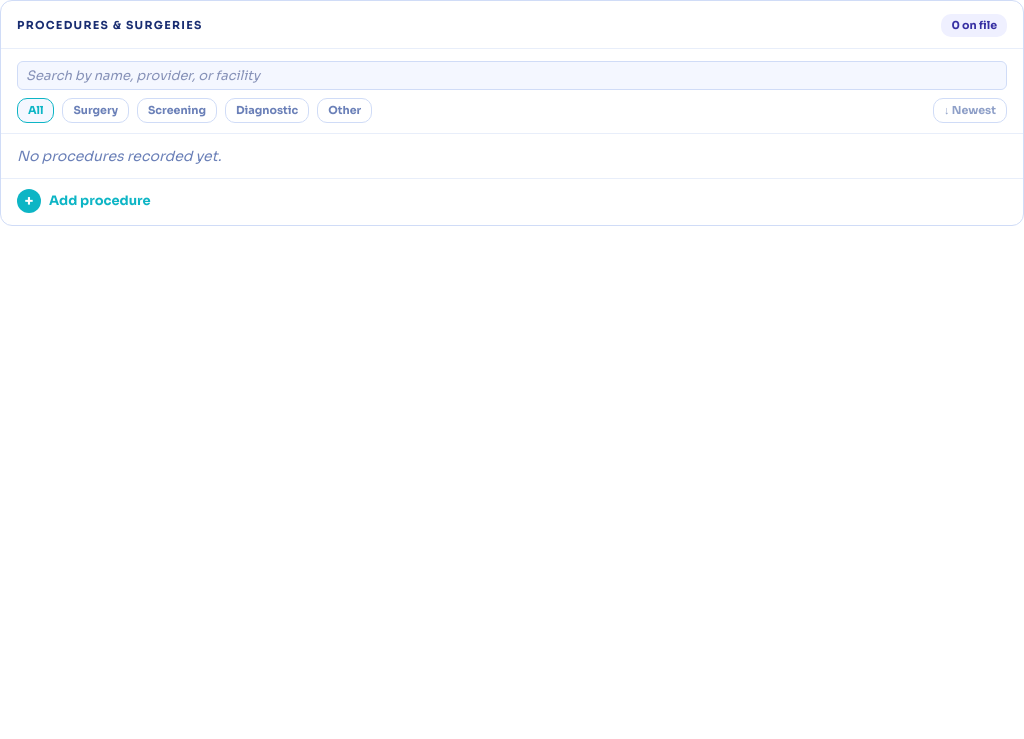
Test case: ProcedureList — add form › saving a new procedure adds it to the store and closes the form
Click the button "+ Add procedure" at (100, 200), box x1=1 y1=178 x2=1023 y2=224
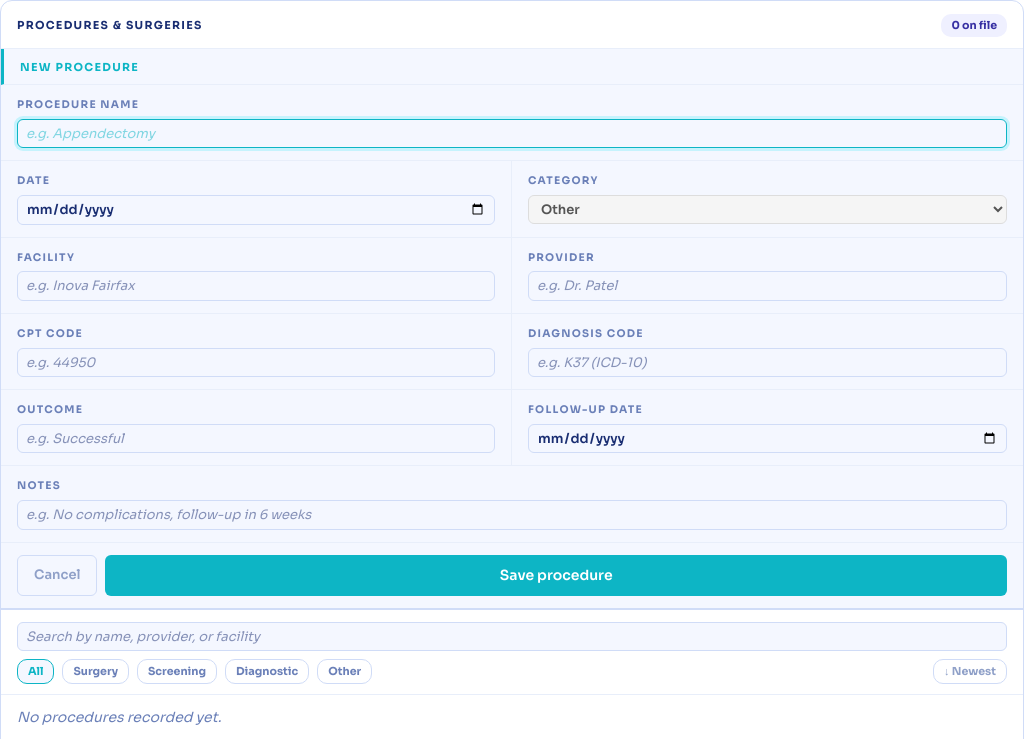
Type "Appendectomy" into the field labelled "Procedure Name" at (512, 134), box x1=17 y1=119 x2=1007 y2=148
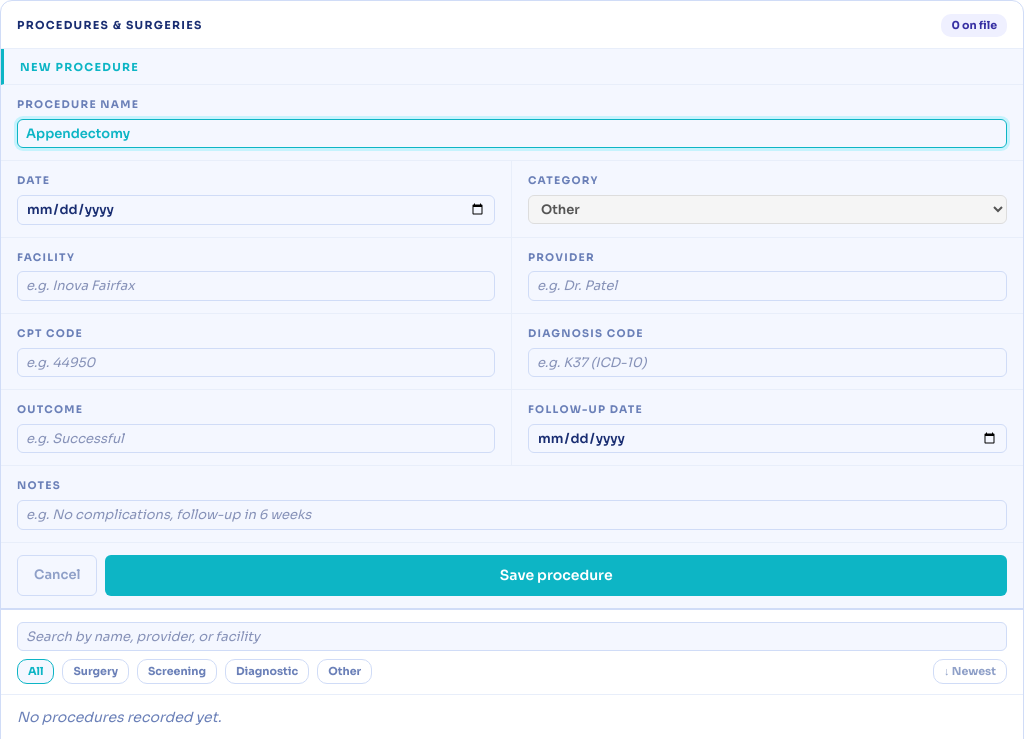
Click the button "Save procedure" at (556, 575), box x1=105 y1=554 x2=1007 y2=596
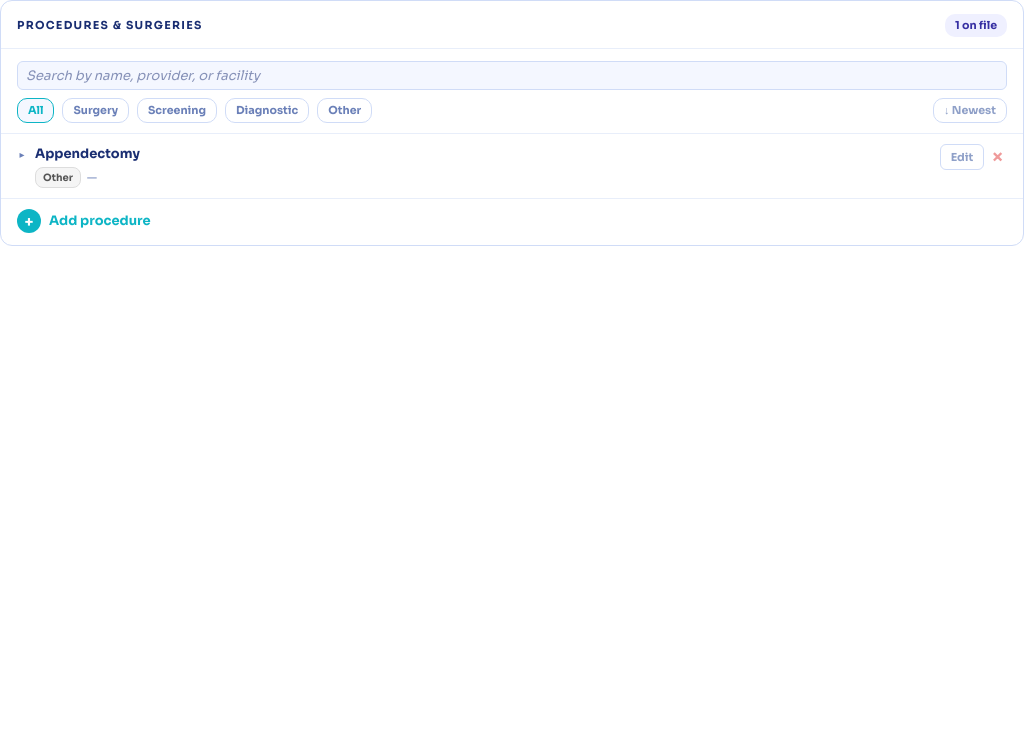
Check: the text "Appendectomy" is shown, box x1=35 y1=144 x2=140 y2=162
Check: the text "New Procedure" is gone
